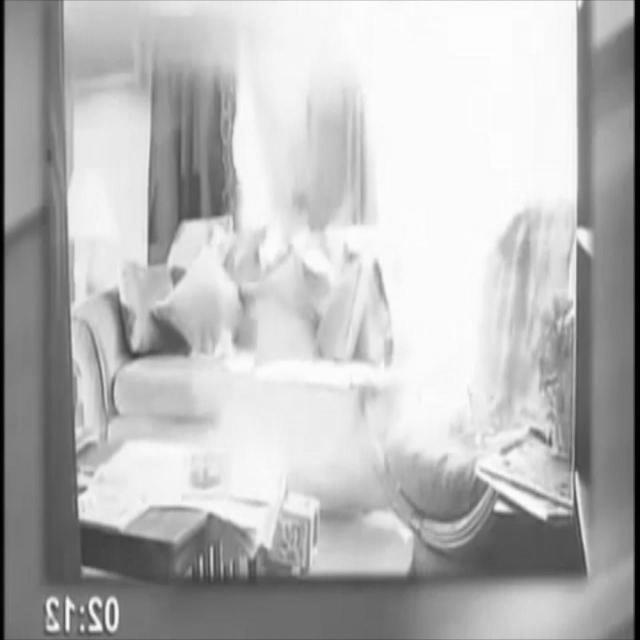smoke: (384, 31, 486, 422)
